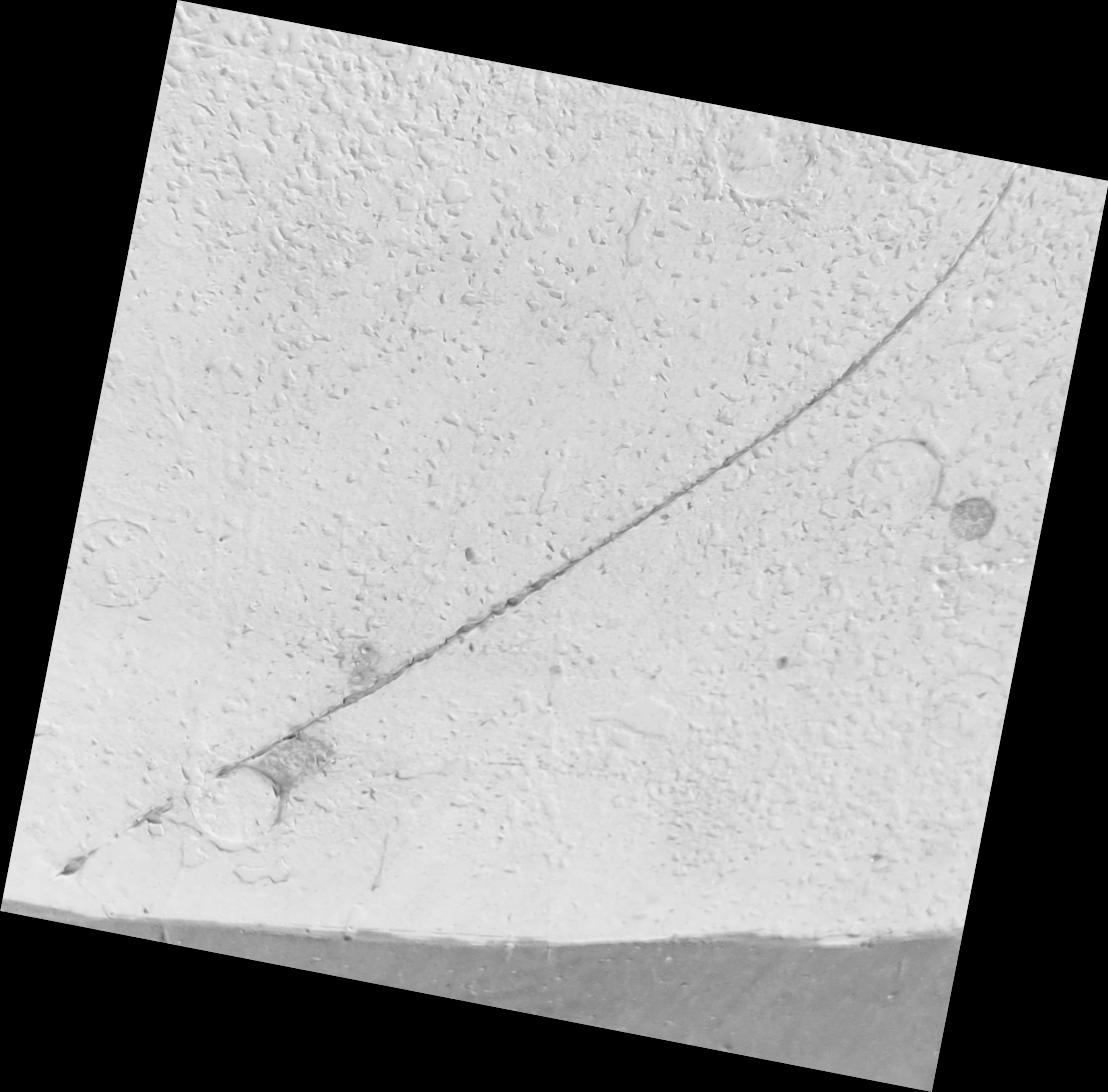scratch: (1, 0, 1108, 1091)
